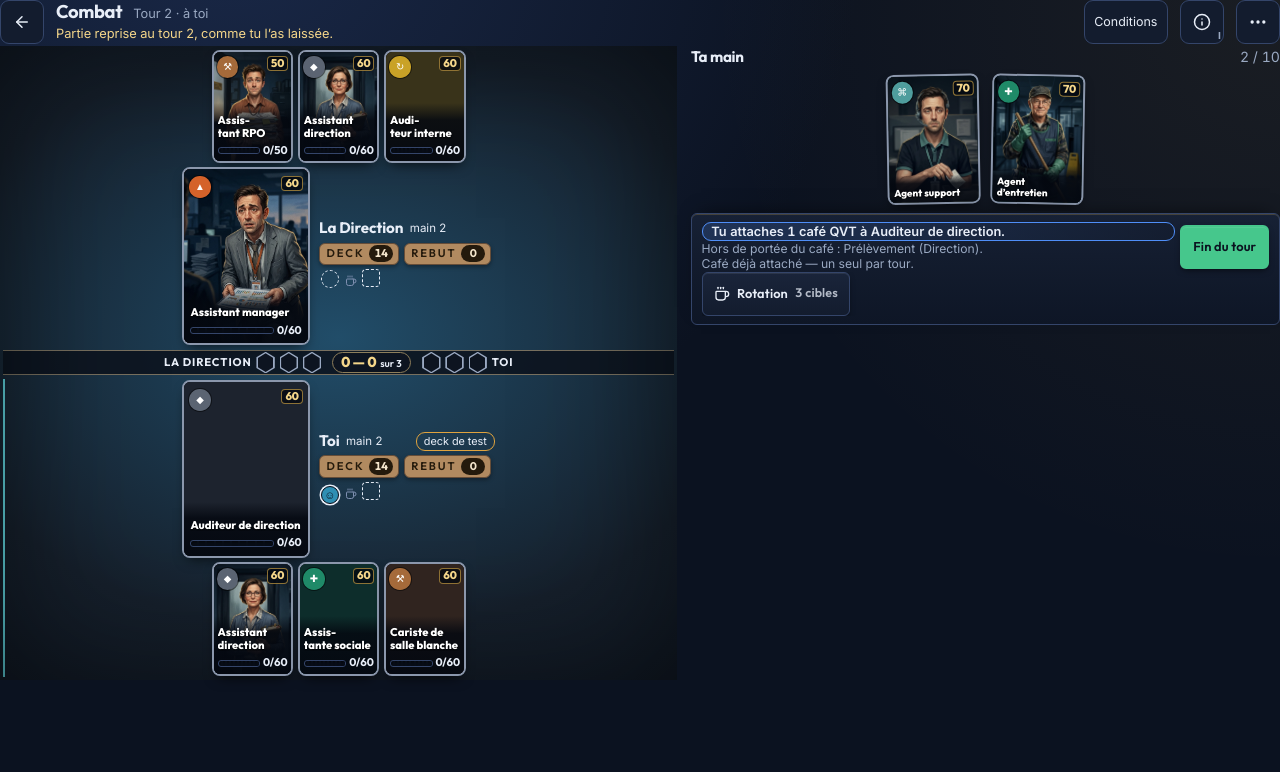
Test case: la Rotation tient en une entrée dans la barre (#455, D-147) › l’entrée ouvre le panneau du Poste : une cible par Planqué du Banc, nommant le Planqué et le coût
This screenshot has width=1280, height=772.
Click the button "Rotation 3 cibles". click: (776, 294)
box: [702,272,850,316]
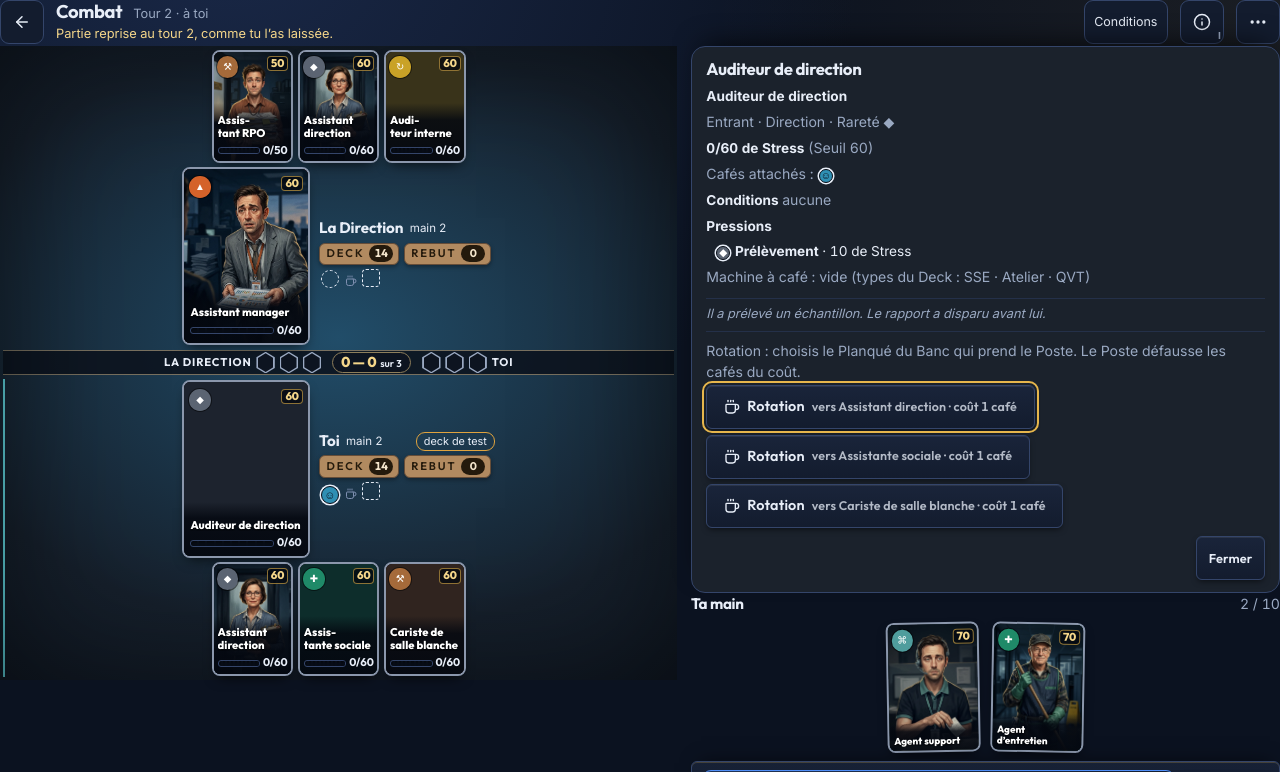
Check: the heading with class "inspecteur__titre" reads "Auditeur de direction", box [706,58,862,79]
Check: the number of buttons "Rotation vers Assistant direction · coût 1 café" is 3, box [706,385,1035,429]; [706,435,1030,479]; [706,484,1064,528]
Check: the button "Rotation vers Assistant direction · coût 1 café" is shown, box [706,385,1035,429]
